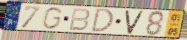7: (22, 5, 42, 30)
8: (144, 10, 166, 37)
B: (68, 7, 92, 32)
D: (90, 8, 116, 33)
G: (40, 6, 64, 31)
V: (124, 10, 145, 35)
